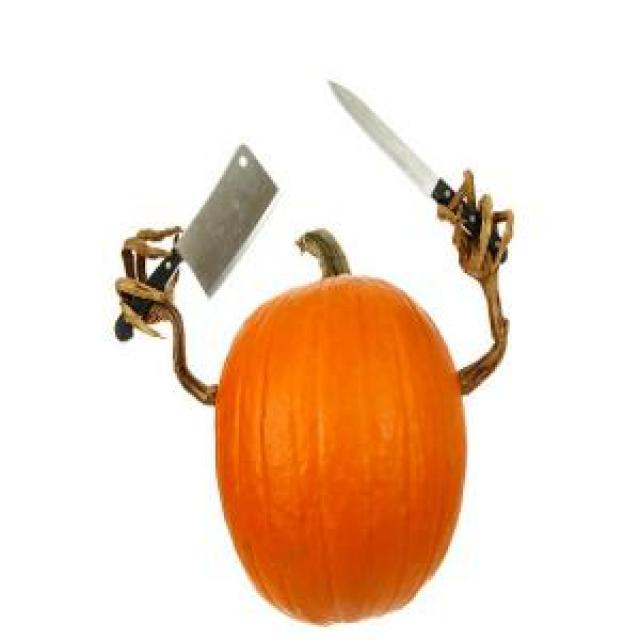knife: (111, 141, 283, 350), (328, 79, 508, 260)
